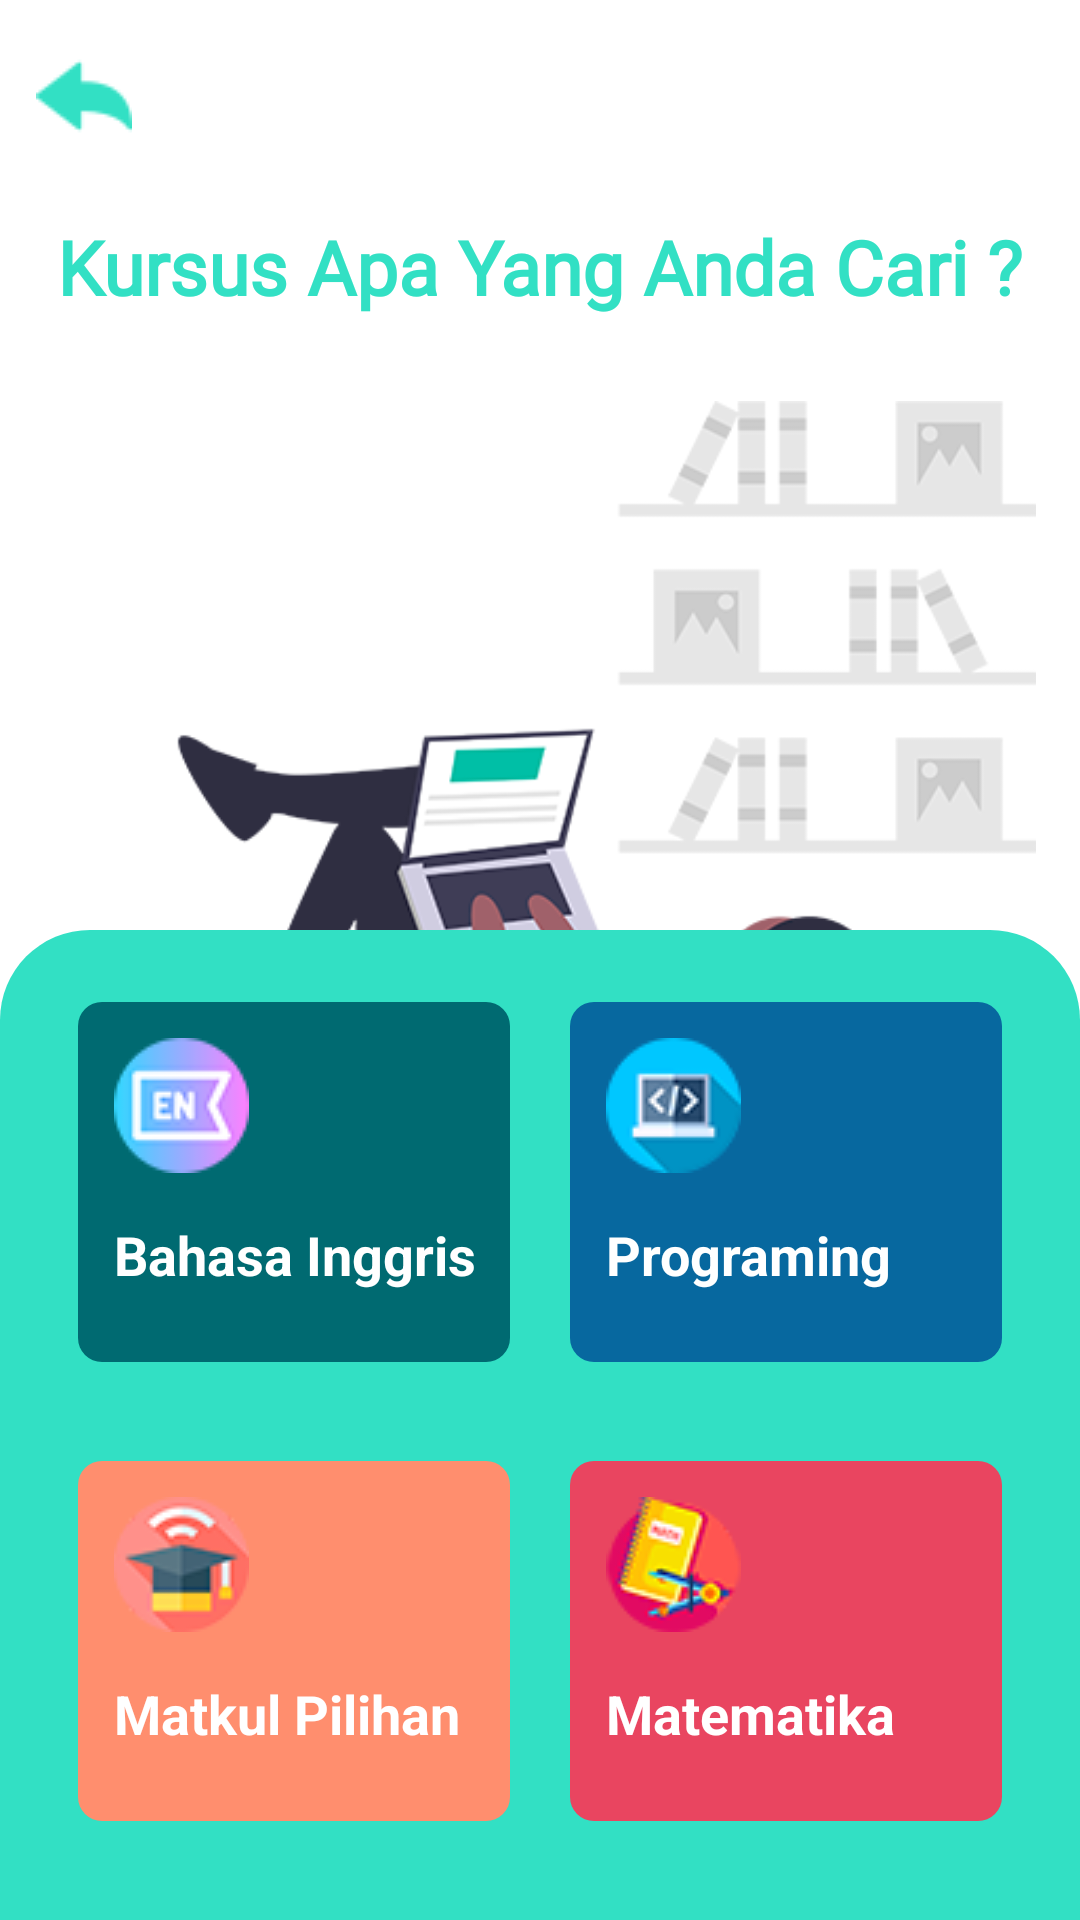

Icon click points for this 1080x1920 phone screenshot, format (x,y):
back: (84,96)
programming: (673,1105)
